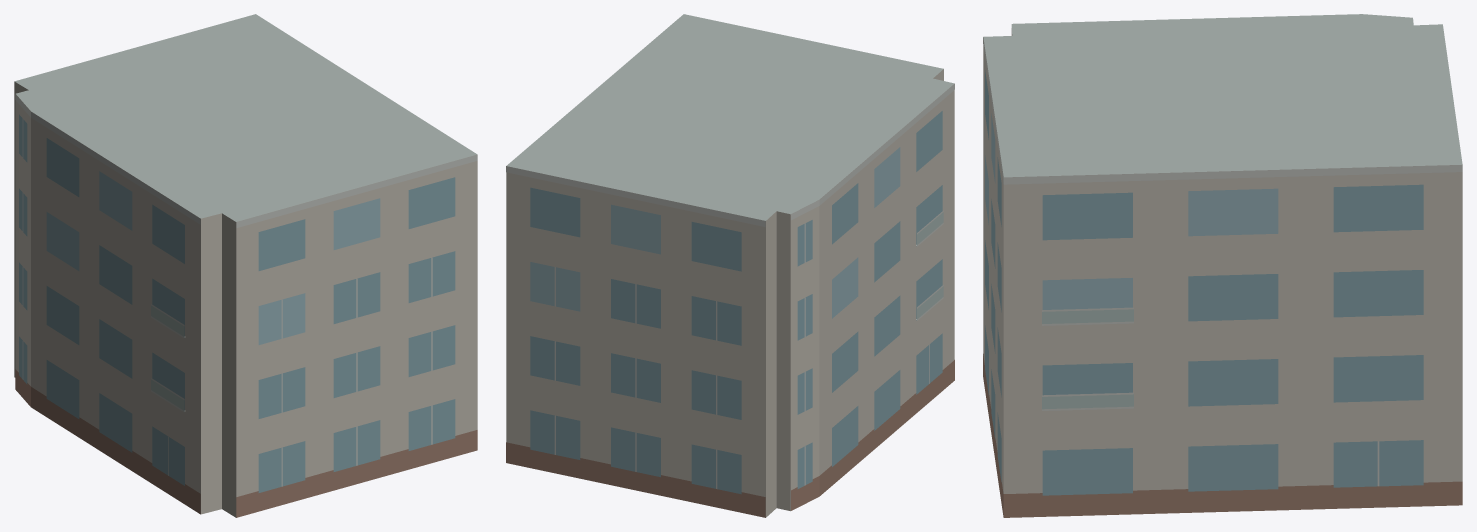
The model's file is survey-upis-32721381.glb.
The picture shows the model from 3 angles, left to right: view 1: azimuth 30°, elevation 25°; view 2: azimuth 150°, elevation 25°; view 3: azimuth 270°, elevation 25°; orthographic projection. The views are drawn at different scales.
Parts seen in each view (by area): view 1: survey-upis-32721381.tmp; view 2: survey-upis-32721381.tmp; view 3: survey-upis-32721381.tmp.
Boxes of the visible parts, left/top/right/bottom form: survey-upis-32721381.tmp: left=14, top=14, right=477, bottom=517; survey-upis-32721381.tmp: left=506, top=14, right=954, bottom=517; survey-upis-32721381.tmp: left=983, top=14, right=1462, bottom=517.
Size of the model in its own units: 11.84 by 11.5 by 14.68.
